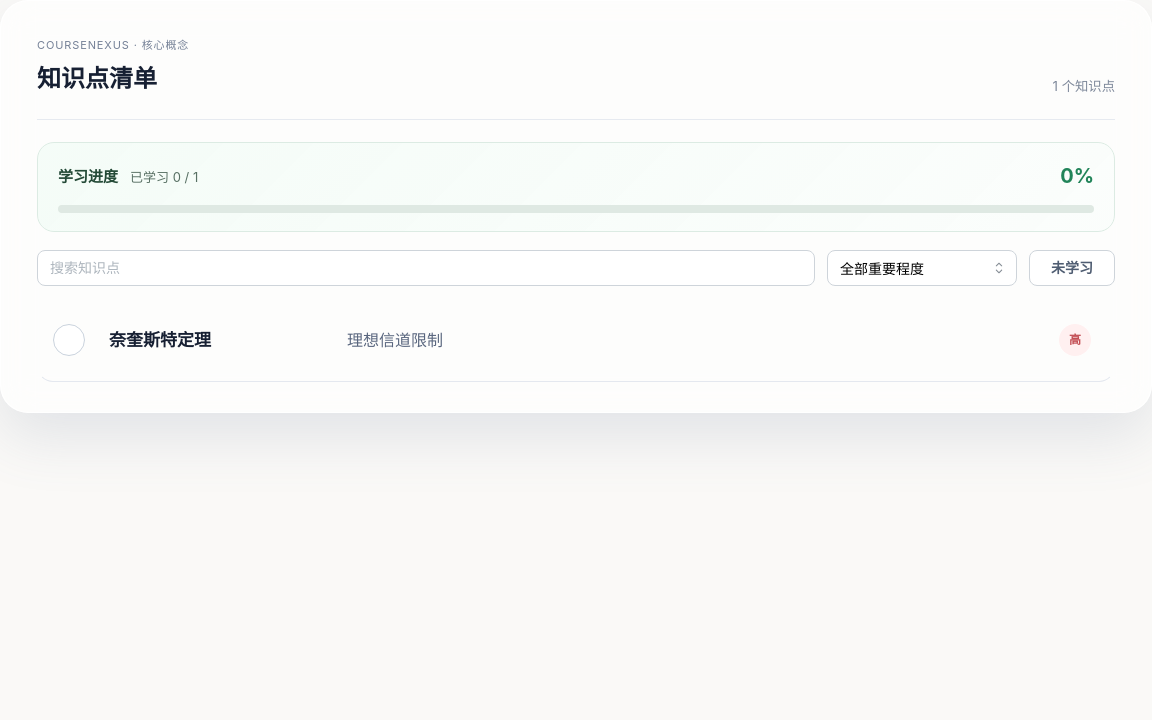
Test case: generated content renderers › rolls back a knowledge learning state when persistence fails
Click the button named "标记奈奎斯特定理为已学习": click(69, 340) [53,324,85,356]
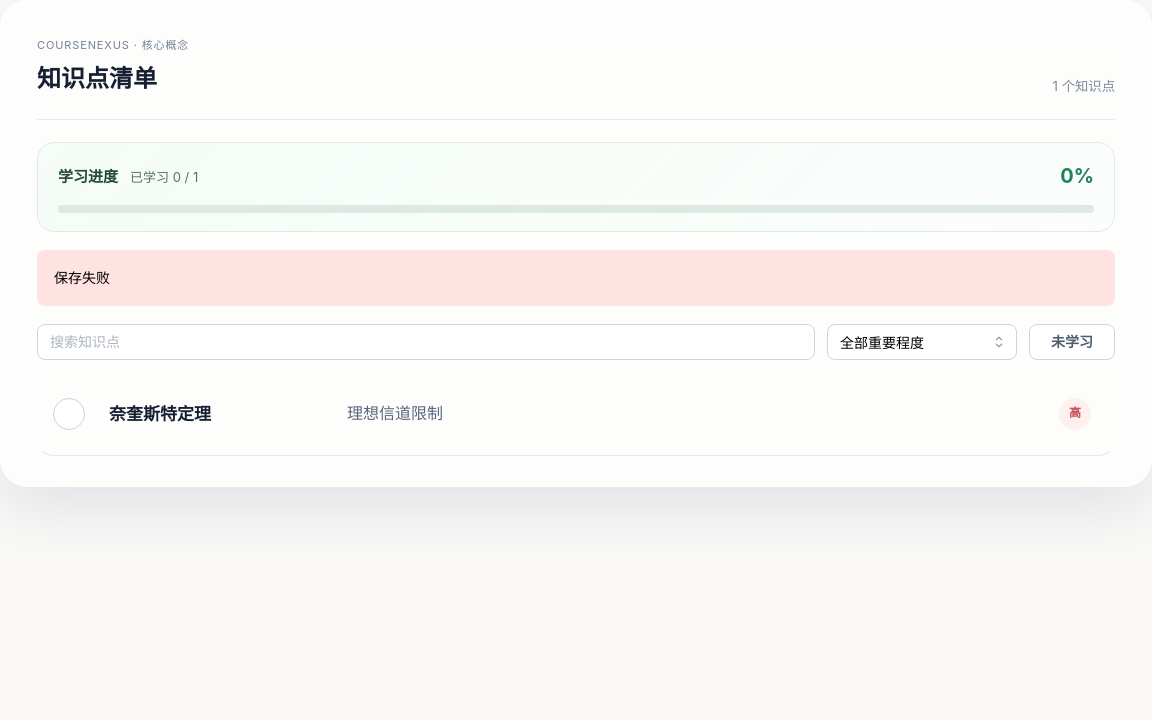
Expected: the text "已学习 0 / 1" is shown, [130,167,198,187]
Expected: the message reads "保存失败", [54,269,110,286]
